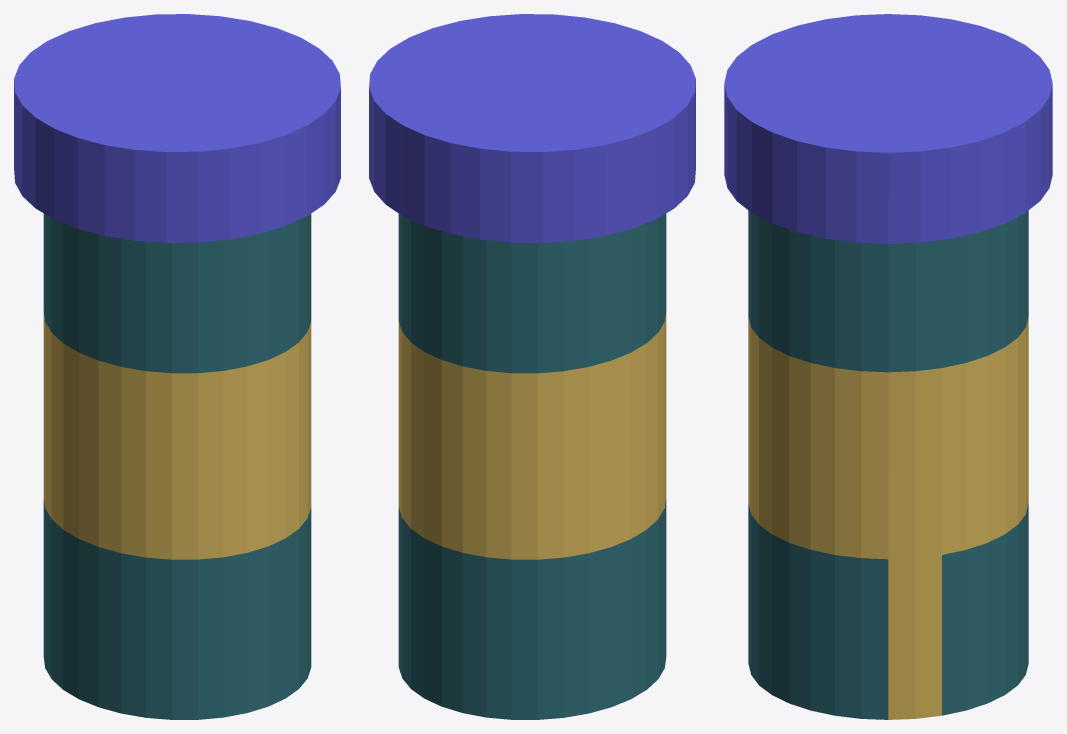
File: cornstarch.fbx
3 renders of one model, left to right at view 1: azimuth 30°, elevation 25°; view 2: azimuth 150°, elevation 25°; view 3: azimuth 270°, elevation 25°, orthographic.
Parts seen in each view (by area): view 1: Cylinder, Cylinder.001; view 2: Cylinder, Cylinder.001; view 3: Cylinder, Cylinder.001.
Boxes of the visible parts, x1=… form: Cylinder: x1=43, y1=213, x2=311, y2=719; Cylinder.001: x1=14, y1=14, x2=340, y2=242; Cylinder: x1=398, y1=213, x2=666, y2=719; Cylinder.001: x1=369, y1=14, x2=695, y2=242; Cylinder: x1=748, y1=210, x2=1028, y2=719; Cylinder.001: x1=724, y1=14, x2=1052, y2=243.
Size of the model in its own units: 200 by 390 by 200.
